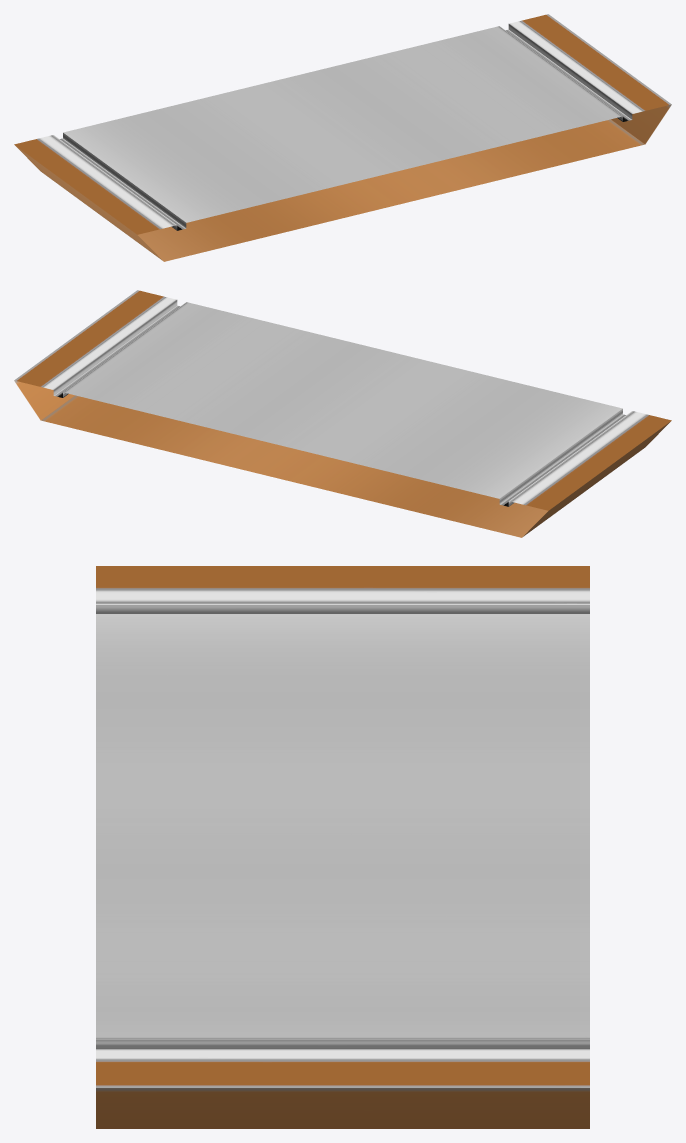
File: platform-mid.fbx
3 renders of one model, top to bottom at view 1: azimuth 30°, elevation 25°; view 2: azimuth 150°, elevation 25°; view 3: azimuth 270°, elevation 25°, orthographic. The views are drawn at different scales.
Visible parts, largest first — view 1: Plane.001; view 2: Plane.001; view 3: Plane.001.
Part boxes in pixels (x1=…): Plane.001: x1=14, y1=14, x2=671, y2=261; Plane.001: x1=14, y1=290, x2=671, y2=537; Plane.001: x1=96, y1=566, x2=589, y2=1128.
Size of the model in its own units: 1000 by 60 by 400.
